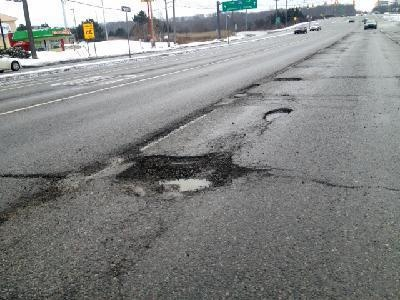pothole: (112, 150, 250, 194), (262, 104, 296, 123), (272, 75, 304, 81)
